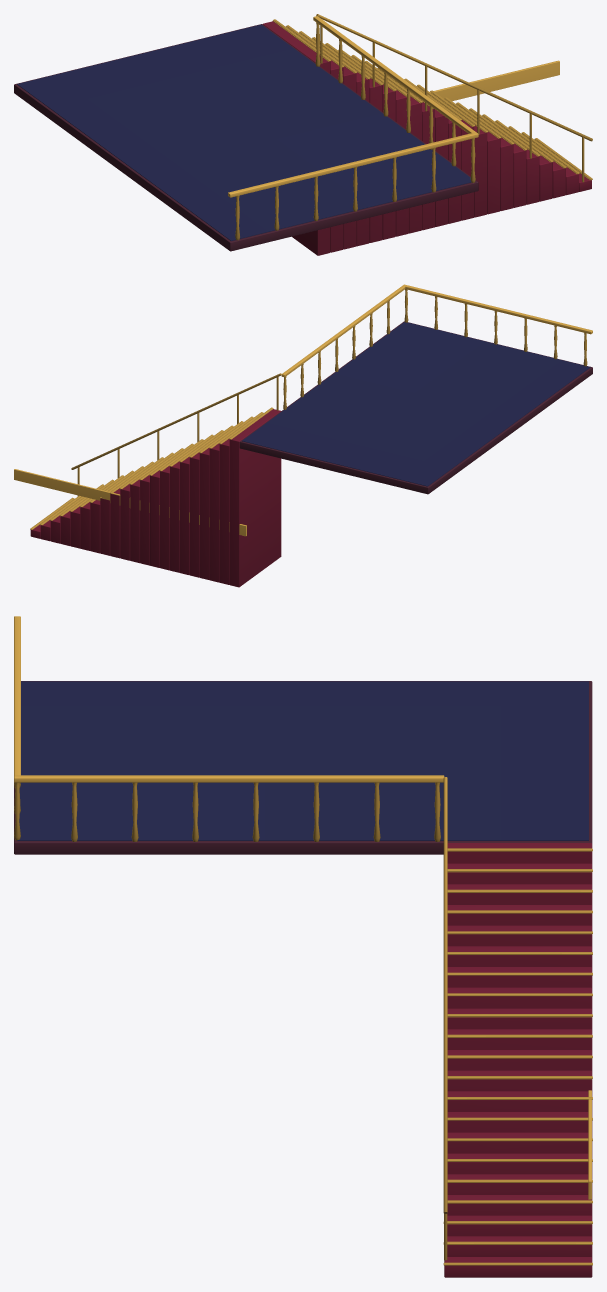
The model's file is SM_Cinema_Mezzanine.fbx.
The picture shows the model from 3 angles, top to bottom: view 1: azimuth 30°, elevation 25°; view 2: azimuth 150°, elevation 25°; view 3: azimuth 270°, elevation 25°; orthographic projection. The views are drawn at different scales.
Visible parts, largest first — view 1: SM_Cinema_Mezzanine; view 2: SM_Cinema_Mezzanine; view 3: SM_Cinema_Mezzanine.
Part boxes in pixels (box(x1,y1,x2,y2)): SM_Cinema_Mezzanine: box(14, 14, 592, 255); SM_Cinema_Mezzanine: box(14, 284, 592, 587); SM_Cinema_Mezzanine: box(14, 616, 592, 1277).
Size of the model in its own units: 1250 by 530 by 861.
